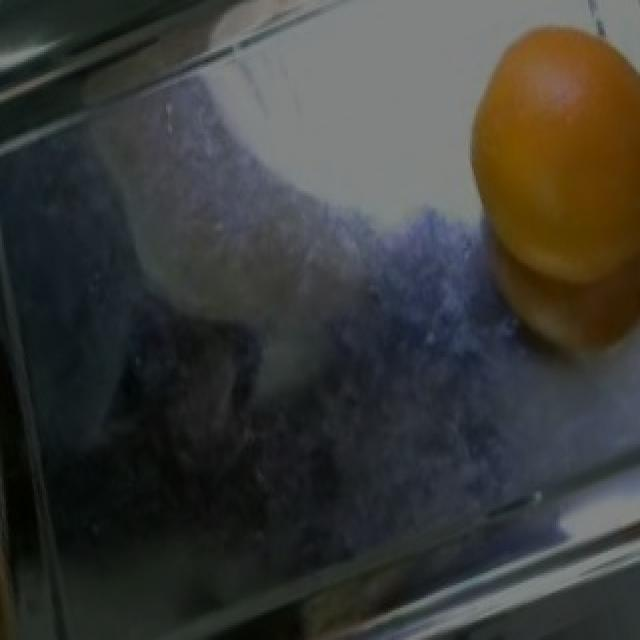Fruit: (444, 0, 638, 325)
